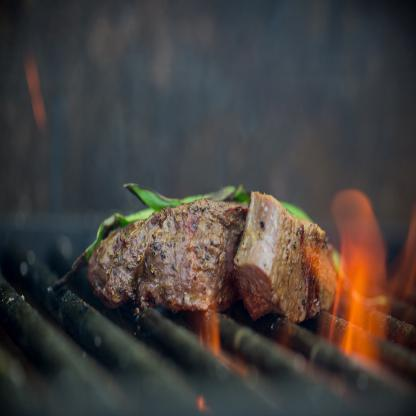Carne: (89, 201, 242, 322)
